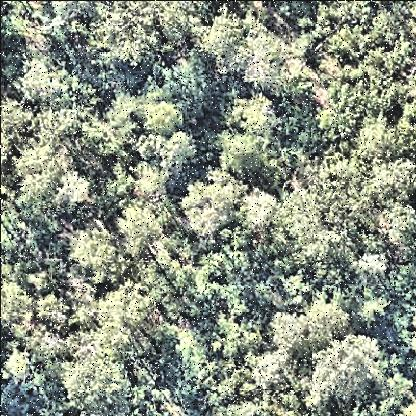tree-top: (283, 165, 371, 253), (319, 51, 405, 136), (314, 332, 383, 403), (89, 1, 166, 63), (95, 285, 161, 352), (60, 352, 129, 412), (183, 175, 241, 241), (64, 223, 126, 282), (12, 54, 81, 107), (161, 55, 216, 119), (13, 138, 66, 203), (351, 113, 416, 165), (112, 200, 168, 259), (203, 312, 268, 362), (195, 10, 249, 67), (211, 126, 267, 180), (318, 1, 382, 46), (235, 32, 284, 88), (367, 155, 416, 208), (228, 91, 279, 137), (100, 94, 146, 142), (124, 383, 189, 416), (52, 167, 96, 215), (33, 284, 75, 334), (244, 351, 290, 395), (265, 313, 312, 355), (351, 286, 392, 334), (124, 159, 172, 200), (379, 201, 416, 253), (2, 95, 26, 175), (1, 279, 34, 337), (238, 191, 282, 234), (349, 246, 393, 286), (154, 136, 200, 174), (141, 99, 183, 137), (1, 349, 37, 389), (214, 399, 279, 416)
